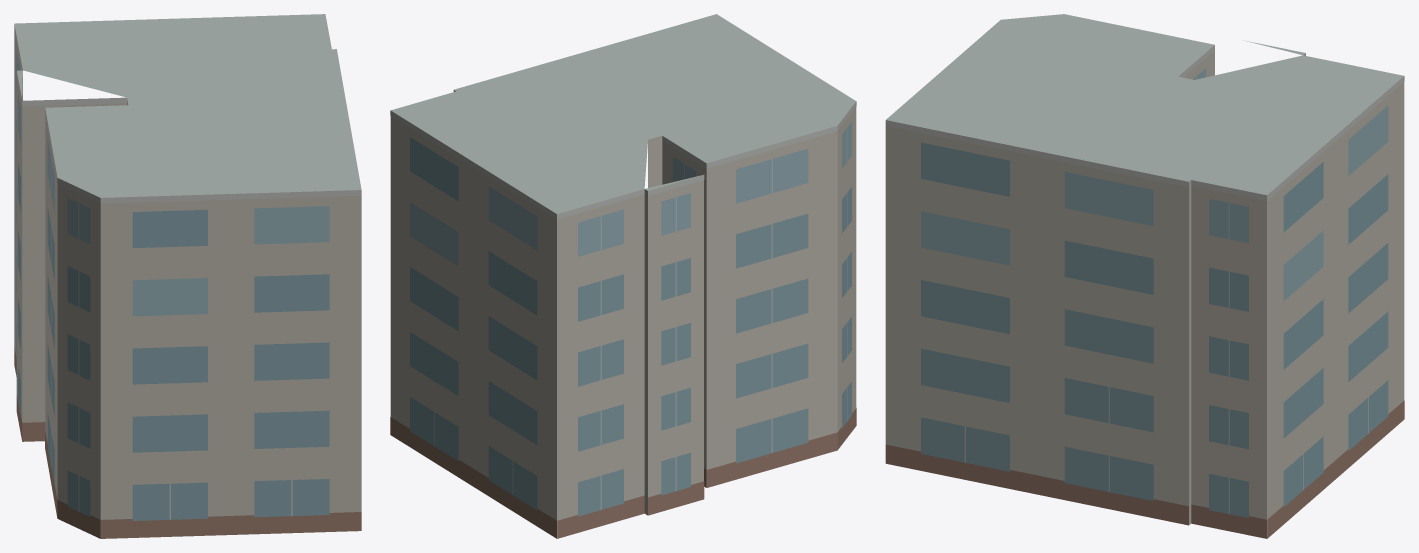
Rendered from survey-upis-32983512.glb.
3 views of the same model, side by side, from view 1: azimuth 30°, elevation 25°; view 2: azimuth 150°, elevation 25°; view 3: azimuth 270°, elevation 25° (orthographic). The views are drawn at different scales.
Parts seen in each view (by area): view 1: survey-upis-32983512.tmp; view 2: survey-upis-32983512.tmp; view 3: survey-upis-32983512.tmp.
Boxes of the visible parts, box(x1,y1,x2,y2) form: survey-upis-32983512.tmp: box(14, 14, 361, 538); survey-upis-32983512.tmp: box(390, 14, 856, 538); survey-upis-32983512.tmp: box(885, 14, 1404, 538).
Size of the model in its own units: 16.87 by 14.9 by 20.4.
